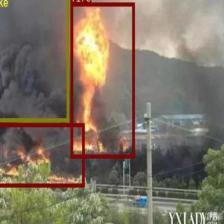fire: (70, 2, 134, 158), (0, 122, 84, 187)
smoke: (0, 0, 68, 121)
